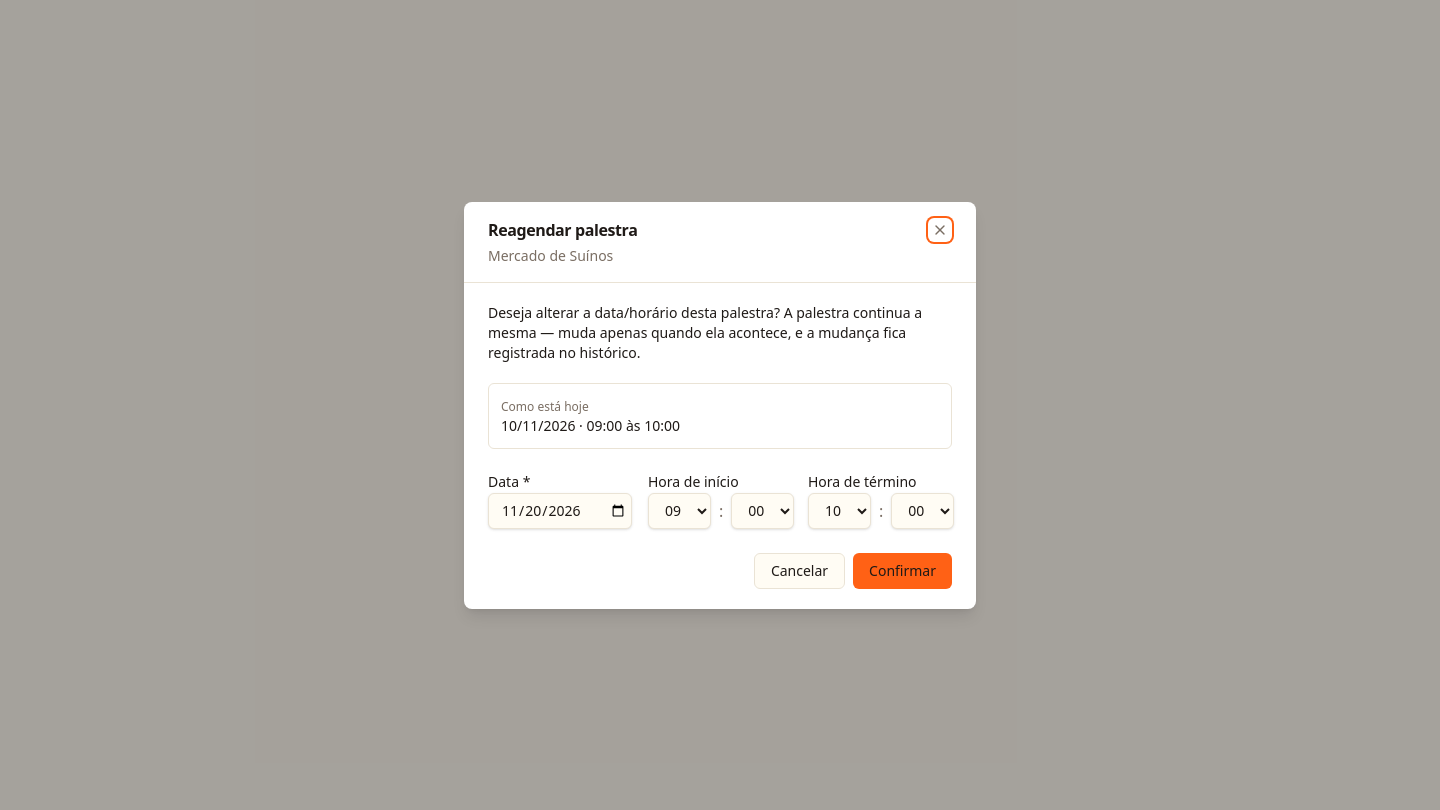
Test: §27 o reagendamento › horário invertido nem chega ao servidor
Select "08" in the dropdown named "Hora de término — hora" at (840, 510), box [808,492,871,528]
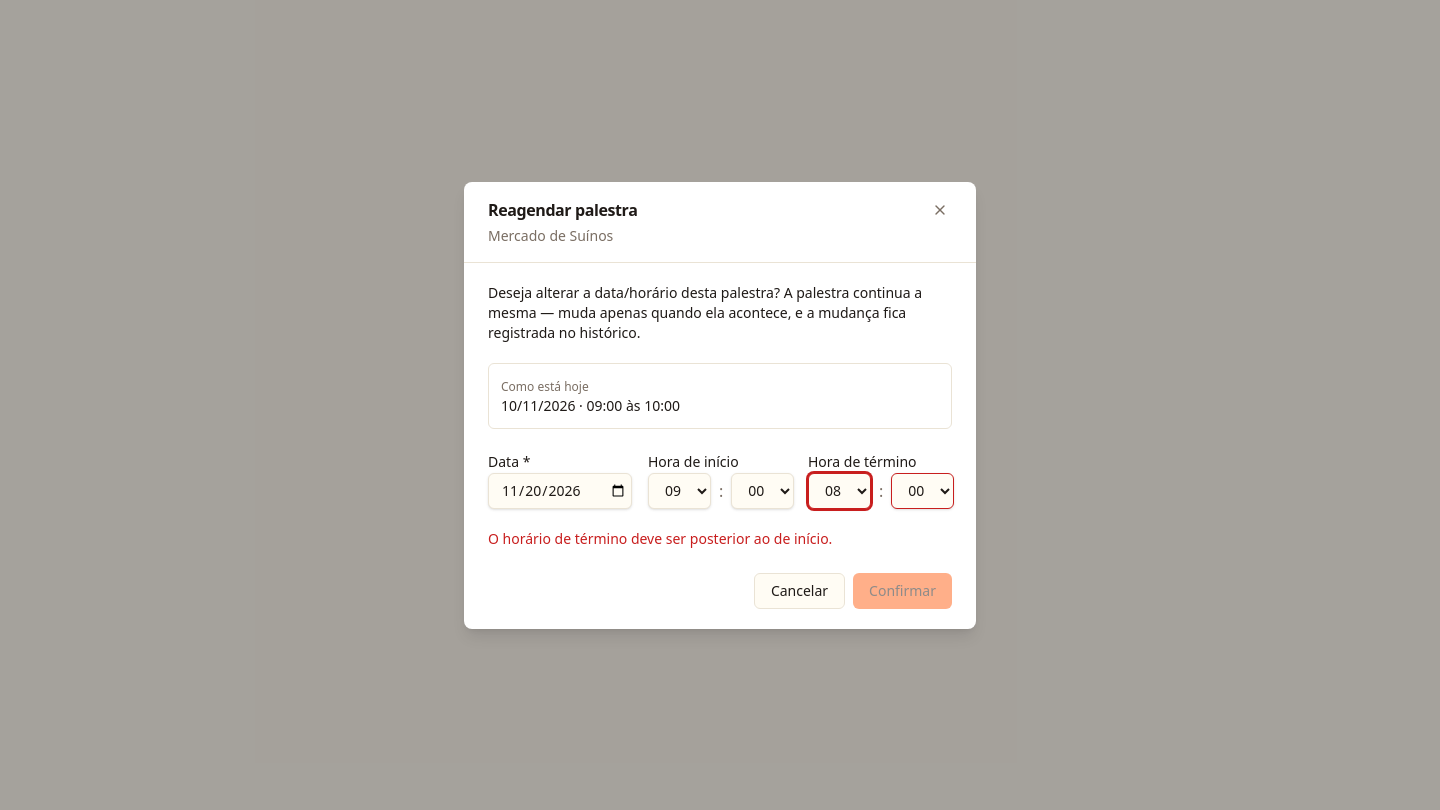
Now the message shows "posterior ao de início", box [488,528,832,548]
Now the button "Confirmar" is disabled, box [853,572,952,608]
